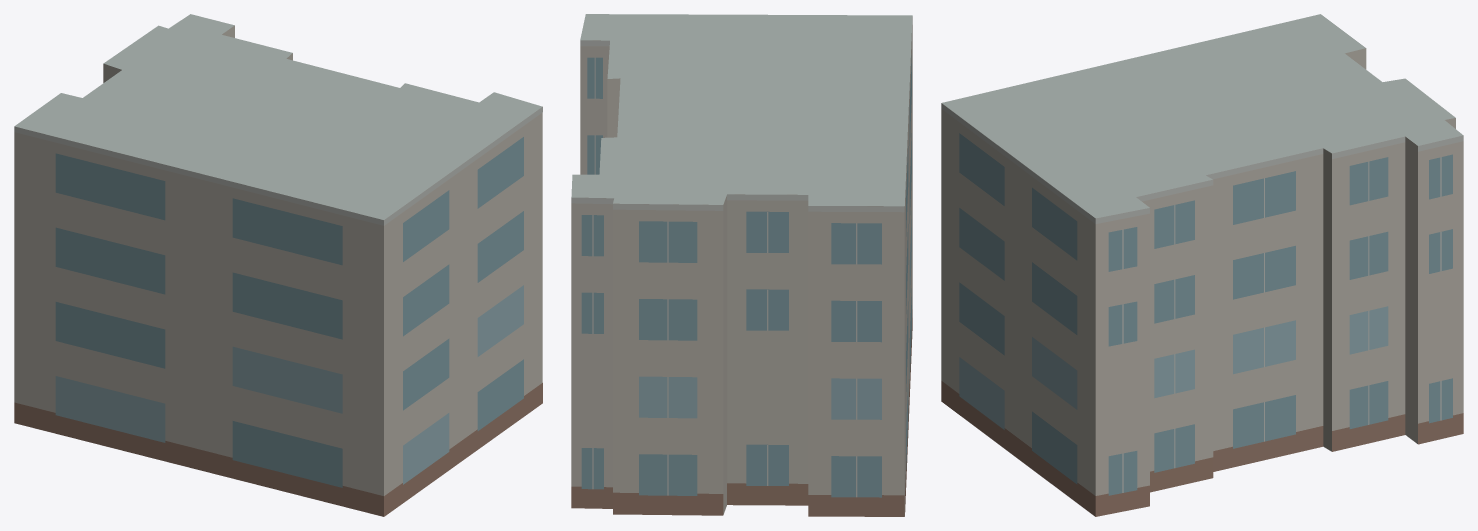
File: survey-upis-32463602.glb
3 renders of one model, left to right at view 1: azimuth 30°, elevation 25°; view 2: azimuth 150°, elevation 25°; view 3: azimuth 270°, elevation 25°, orthographic. The views are drawn at different scales.
Visible parts, largest first — view 1: survey-upis-32463602.tmp; view 2: survey-upis-32463602.tmp; view 3: survey-upis-32463602.tmp.
Part boxes in pixels (bbox=[...]): survey-upis-32463602.tmp: bbox=[14, 14, 542, 516]; survey-upis-32463602.tmp: bbox=[571, 14, 912, 516]; survey-upis-32463602.tmp: bbox=[941, 14, 1463, 516].
Size of the model in its own units: 18.72 by 12.73 by 20.2.
